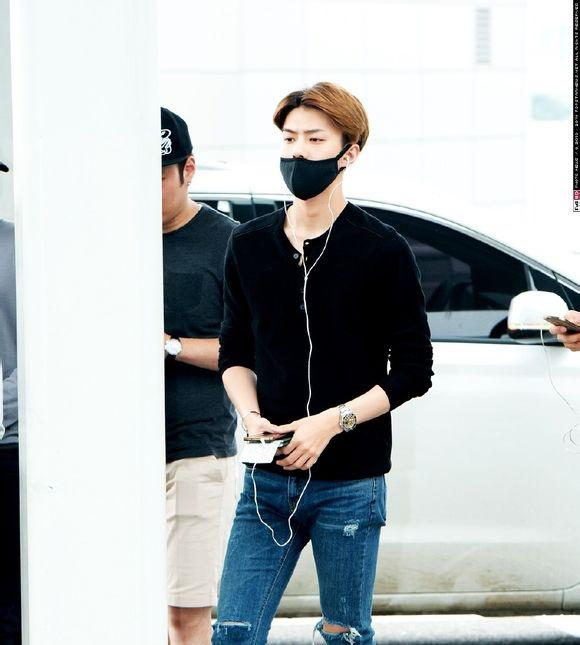WRONG: (276, 122, 353, 199)
